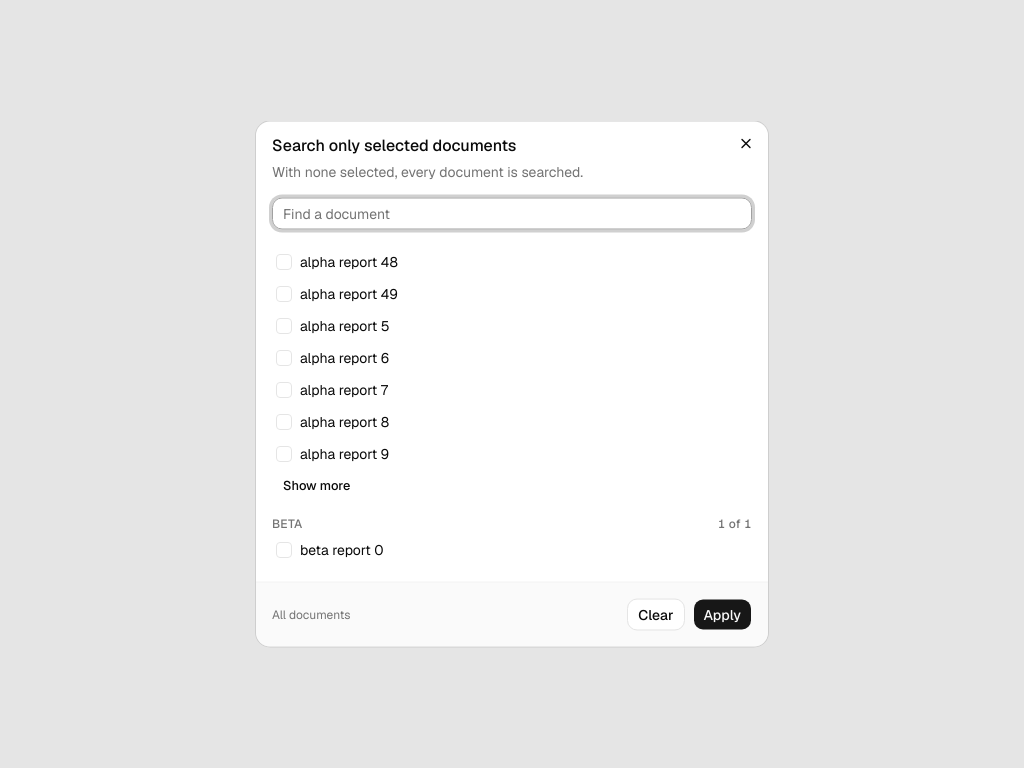
FilterDialog › asks again for a page that failed
The image size is (1024, 768).
(page scrolled)
Step 1. Click the button "Show more" → (317, 486), box [272,472,361,500]
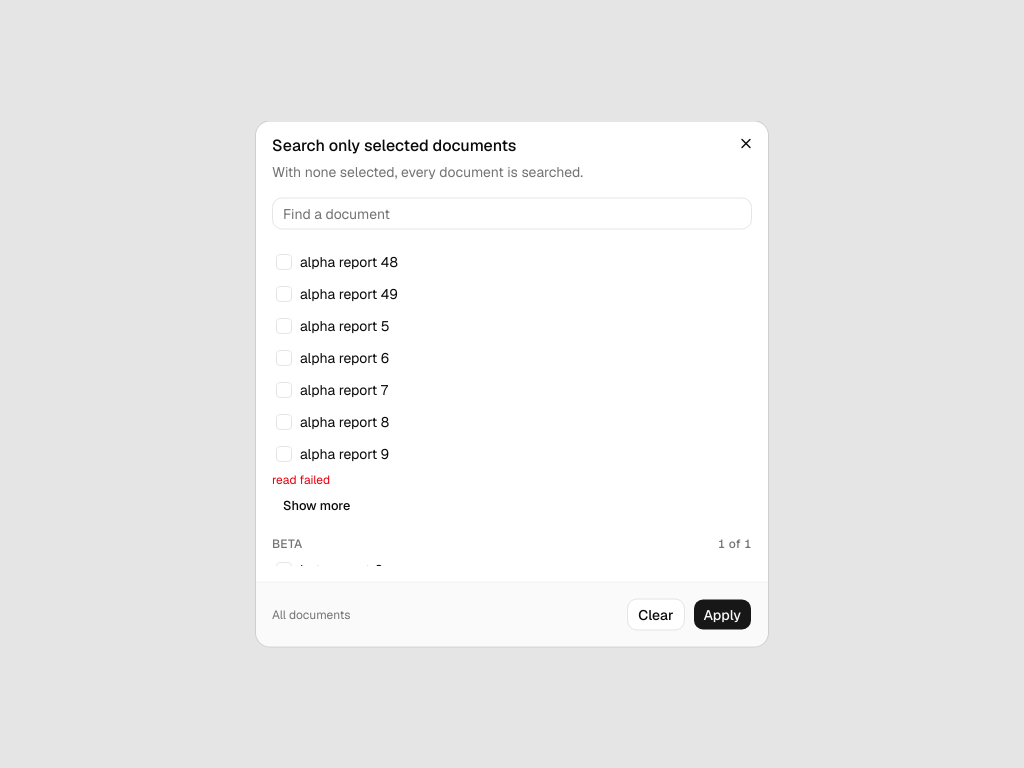
Expected: the text "read failed" is shown, [272,472,330,488]
Step 2. Click the button "Show more" → (317, 506), box [272,492,361,520]
(page scrolled)
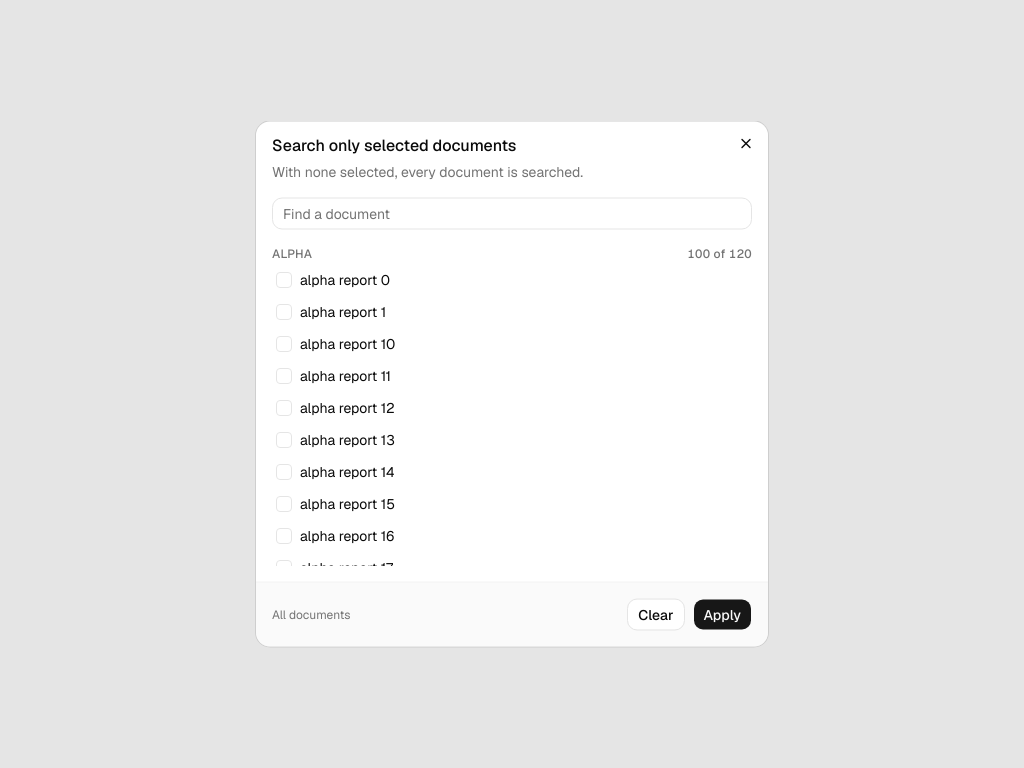
Expected: the text "100 of 120" is shown, [687,246,752,262]
